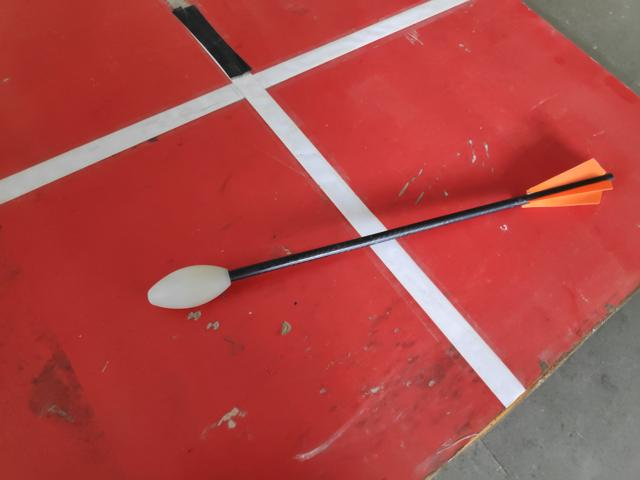Head: (144, 258, 234, 315)
Tail: (516, 154, 619, 210)
